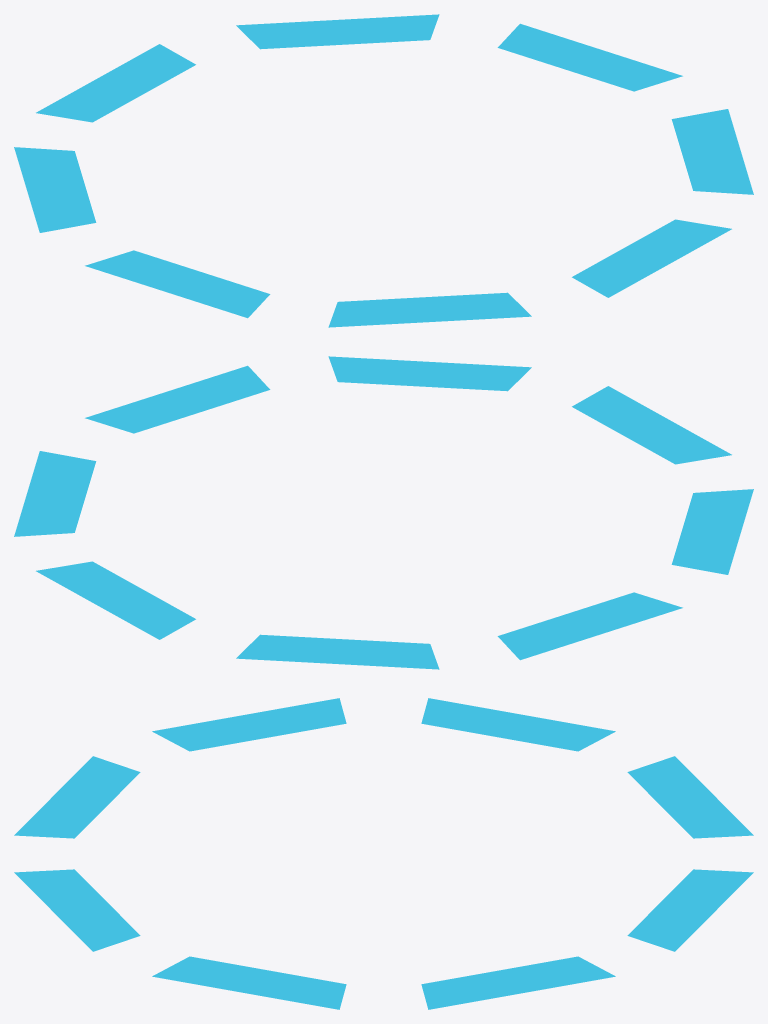
The picture shows the model from 3 angles, top to bottom: view 1: azimuth 30°, elevation 25°; view 2: azimuth 150°, elevation 25°; view 3: azimuth 270°, elevation 25°; orthographic projection.
Visible parts, largest first — view 1: Plane; view 2: Plane; view 3: Plane.
Part boxes in pixels (x1,y1,x2,y2): Plane: [14, 14, 753, 327]; Plane: [14, 356, 753, 669]; Plane: [14, 698, 753, 1009].
Size of the model in its own units: 172 by 2.81e-05 by 173.
